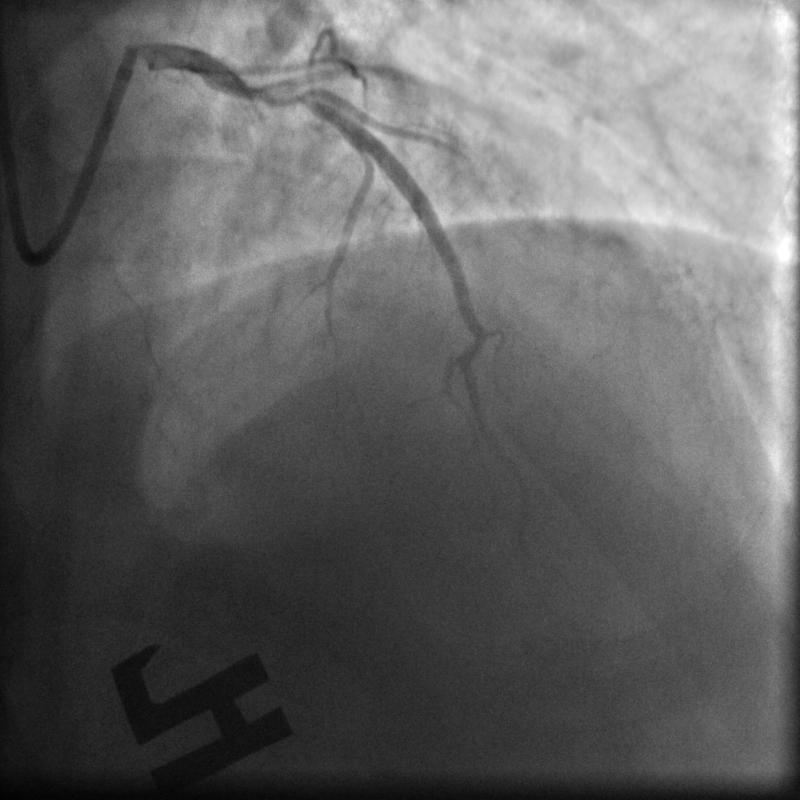Stenosis: (246, 78, 318, 111)
